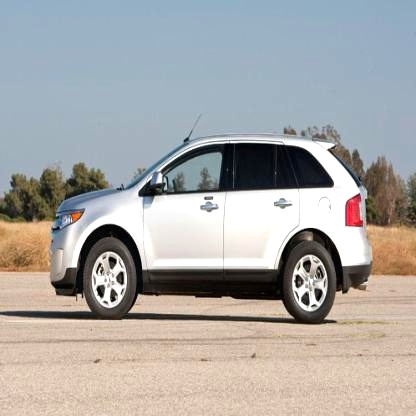Vehicle: (48, 117, 373, 322)
